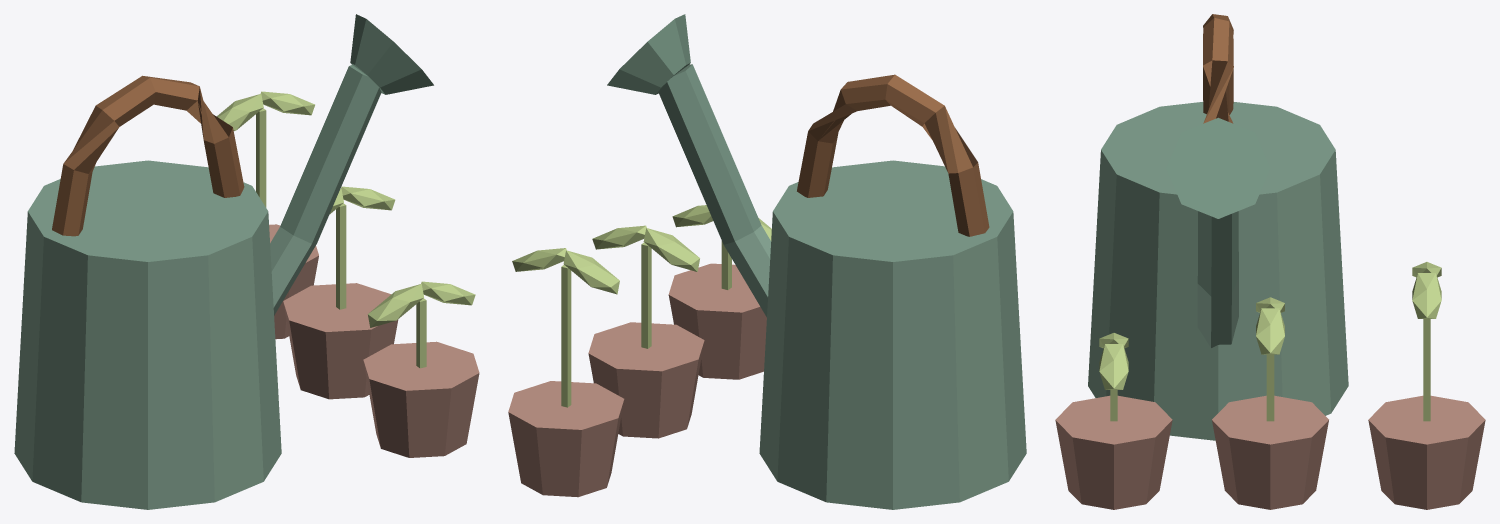
The model's file is Kit_Calm_Hint_WateringCan.glb.
3 renders of one model, left to right at view 1: azimuth 30°, elevation 25°; view 2: azimuth 150°, elevation 25°; view 3: azimuth 270°, elevation 25°, orthographic. The views are drawn at different scales.
Parts seen in each view (by area): view 1: EX_HintCan_Stone, EX_HintCan_Wood, EX_HintCan_Leaves; view 2: EX_HintCan_Stone, EX_HintCan_Wood, EX_HintCan_Leaves; view 3: EX_HintCan_Stone, EX_HintCan_Leaves, EX_HintCan_Wood.
Part boxes in pixels (<box>): EX_HintCan_Stone: <box>14,14,479,509</box>; EX_HintCan_Wood: <box>52,75,244,236</box>; EX_HintCan_Leaves: <box>217,91,475,368</box>; EX_HintCan_Stone: <box>508,14,1026,509</box>; EX_HintCan_Wood: <box>797,74,989,236</box>; EX_HintCan_Leaves: <box>512,205,771,407</box>; EX_HintCan_Stone: <box>1055,102,1485,509</box>; EX_HintCan_Leaves: <box>1099,262,1441,421</box>; EX_HintCan_Wood: <box>1203,14,1233,123</box>.
Bounding box in the file's own units: 0.6598 × 0.6142 × 0.6435.
